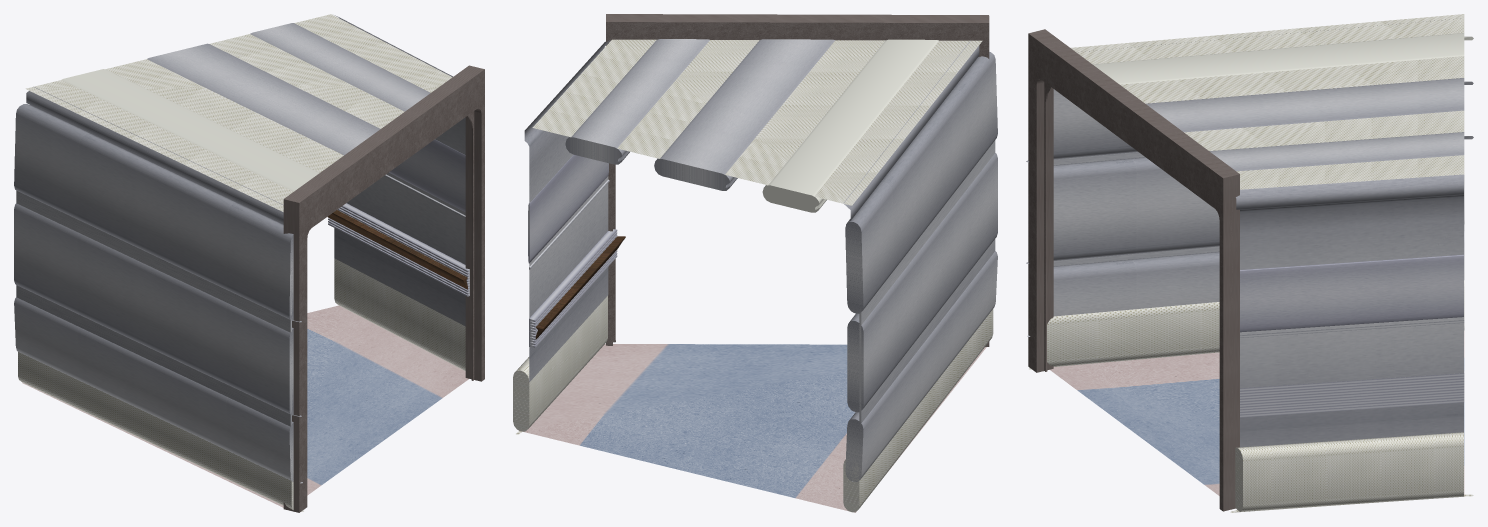
File: GalaxyCorridorLeftTurn.fbx
3 views of the same model, side by side, from view 1: azimuth 30°, elevation 25°; view 2: azimuth 150°, elevation 25°; view 3: azimuth 270°, elevation 25° (orthographic). The views are drawn at different scales.
Visible parts, largest first — view 1: ChamferBox64; view 2: ChamferBox64; view 3: ChamferBox64.
Part boxes in pixels (<box>): ChamferBox64: <box>14,14,484,512</box>; ChamferBox64: <box>513,14,997,512</box>; ChamferBox64: <box>1026,14,1473,512</box>.
Bounding box in the file's own units: 313 × 256 × 311.
